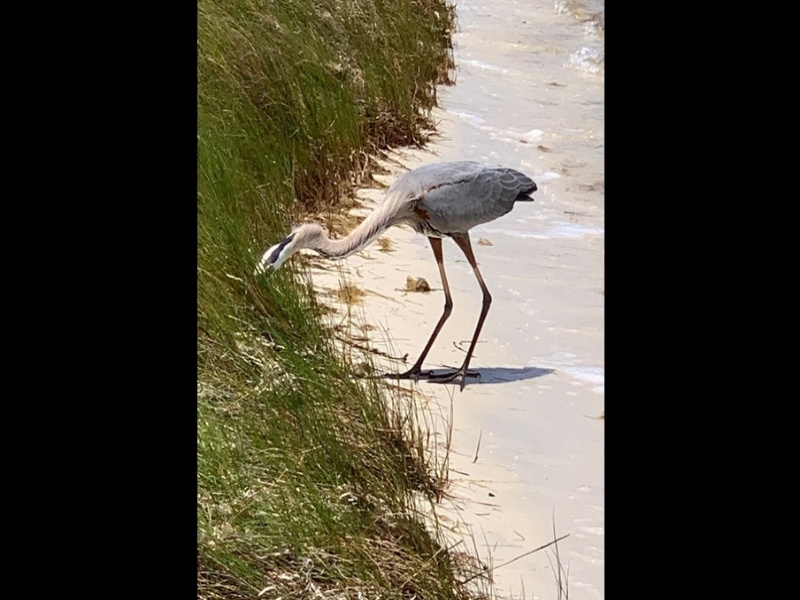heron: (252, 158, 540, 397)
